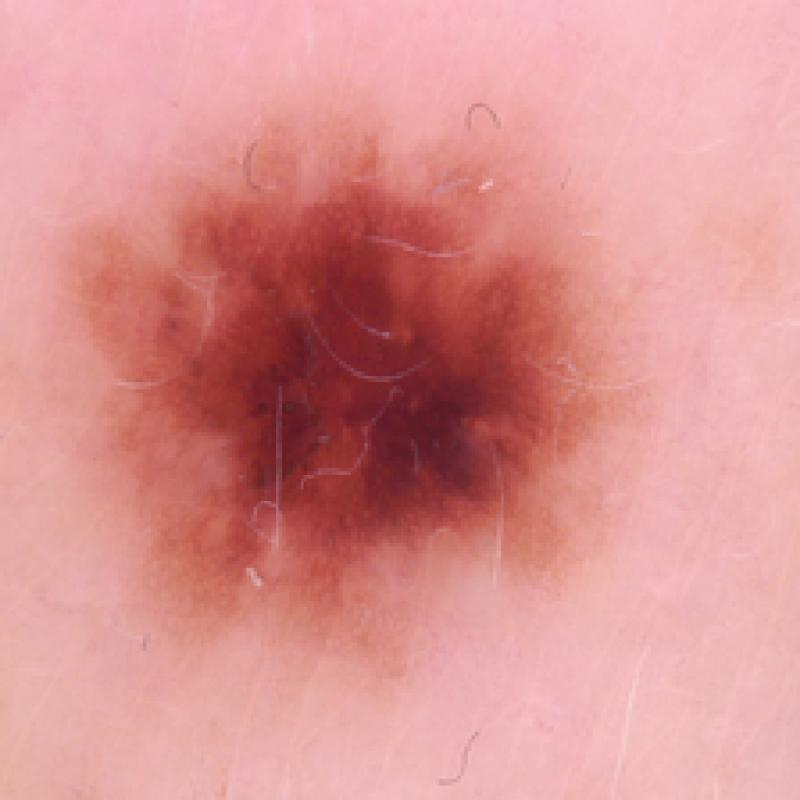benign: (80, 109, 652, 647)
